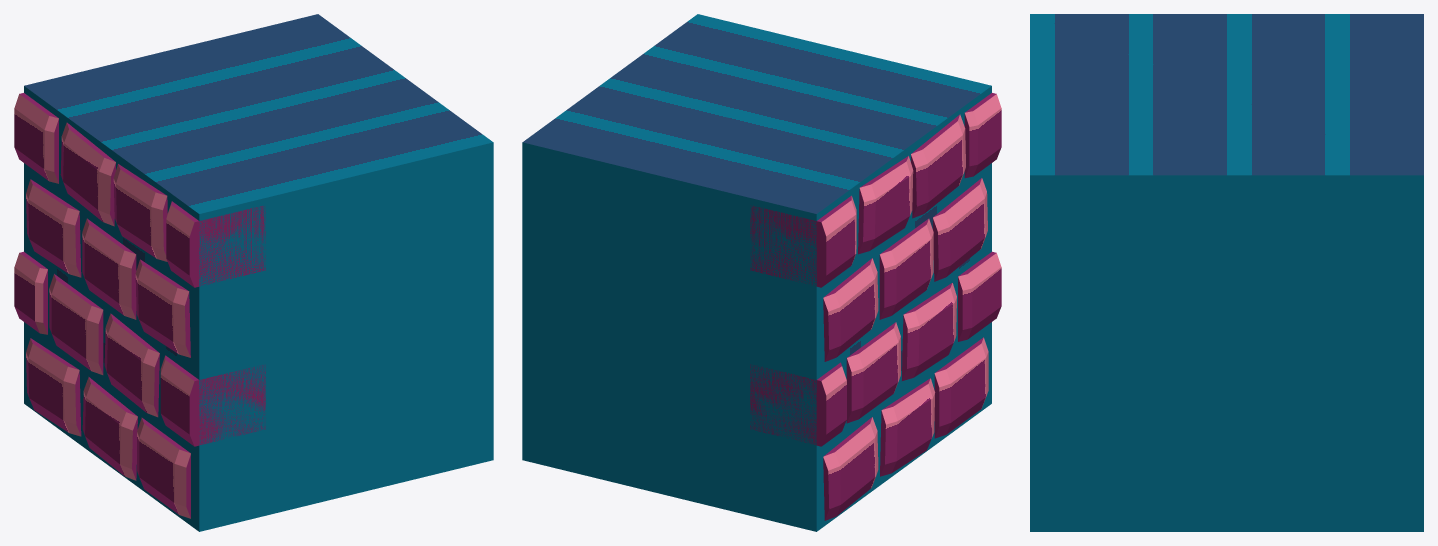
Rendered from Brick_Wall_Tile_1.obj.
The picture shows the model from 3 angles, left to right: view 1: azimuth 30°, elevation 25°; view 2: azimuth 150°, elevation 25°; view 3: azimuth 270°, elevation 25°; orthographic projection. The views are drawn at different scales.
Visible parts, largest first — view 1: Block-col, cuboid; view 2: Block-col, cuboid; view 3: Block-col.
Boxes of the visible parts, x1=… form: Block-col: x1=24, y1=14, x2=493, y2=531; cuboid: x1=14, y1=93, x2=265, y2=518; Block-col: x1=522, y1=14, x2=991, y2=531; cuboid: x1=750, y1=93, x2=1001, y2=520; Block-col: x1=1030, y1=14, x2=1423, y2=531.
Bounding box in the file's own units: 1 × 1 × 1.
Materials: 2 (2 with a texture image).
